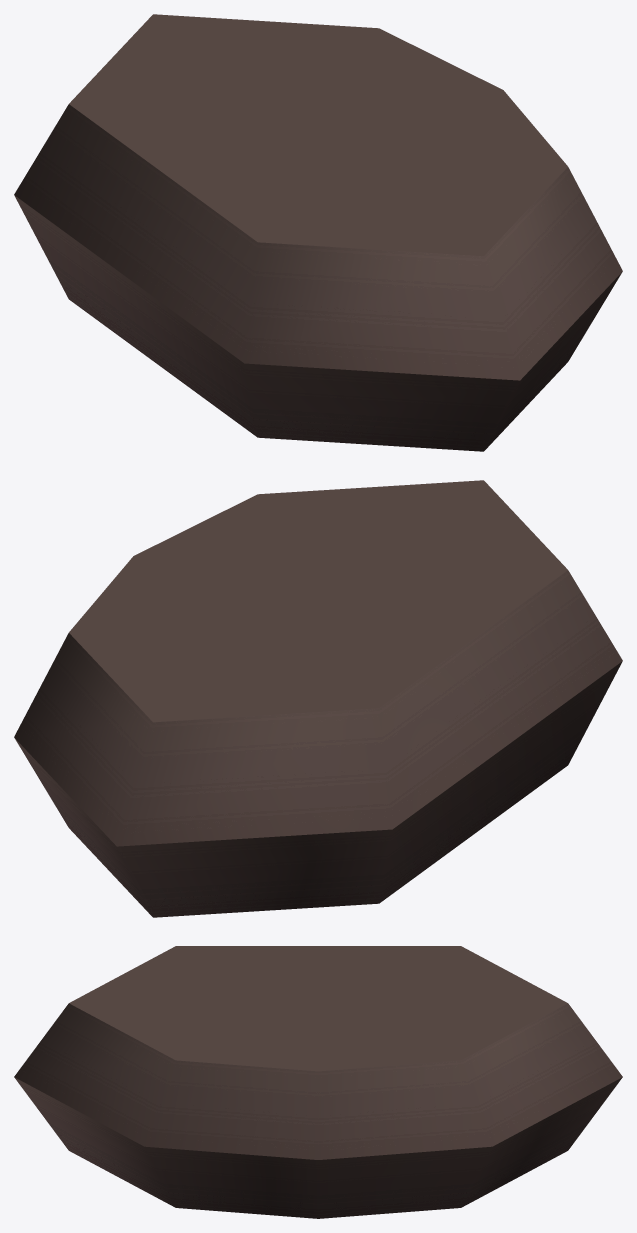
The model's file is kenney_mussel.glb.
The picture shows the model from 3 angles, top to bottom: view 1: azimuth 30°, elevation 25°; view 2: azimuth 150°, elevation 25°; view 3: azimuth 270°, elevation 25°; orthographic projection. The views are drawn at different scales.
Parts seen in each view (by area): view 1: mussel; view 2: mussel; view 3: mussel.
Part boxes in pixels (bbox=[...]): mussel: bbox=[14, 14, 622, 451]; mussel: bbox=[14, 480, 622, 917]; mussel: bbox=[14, 946, 622, 1218].
Bounding box in the file's own units: 0.0923 × 0.0415 × 0.1554.
Materials: 1 (1 with a texture image).
